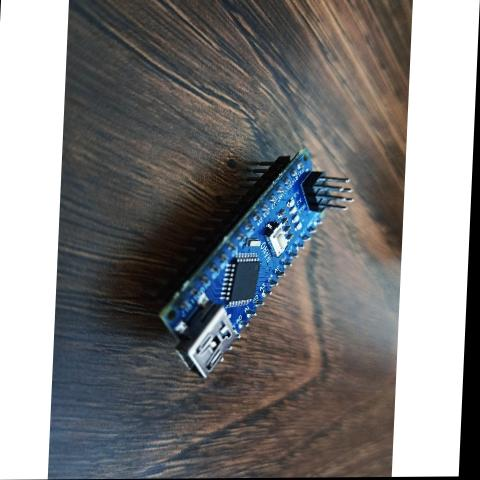Arduino-Nano: (153, 145, 360, 384)
